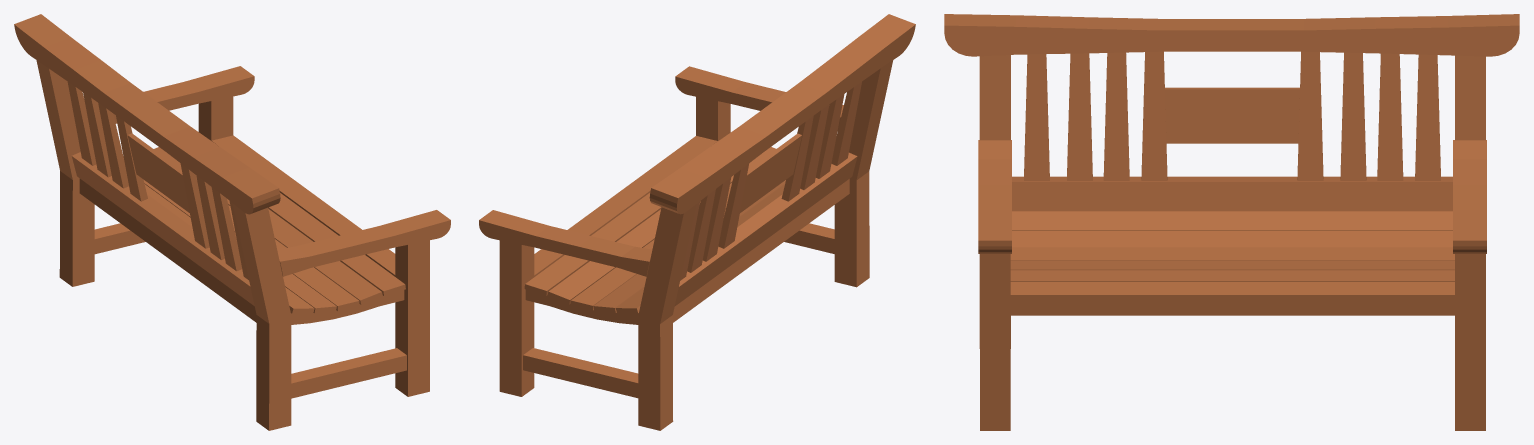
Rendered from Banco Japones LOWPOLY.fbx.
3 renders of one model, left to right at view 1: azimuth 30°, elevation 25°; view 2: azimuth 150°, elevation 25°; view 3: azimuth 270°, elevation 25°, orthographic. The views are drawn at different scales.
Visible parts, largest first — view 1: Banco; view 2: Banco; view 3: Banco.
Boxes of the visible parts, x1,y1,x2,y2 form: Banco: (14,14,450,430); Banco: (479,14,915,430); Banco: (944,14,1519,430).
Bounding box in the file's own units: 1035 × 1182 × 2003.
